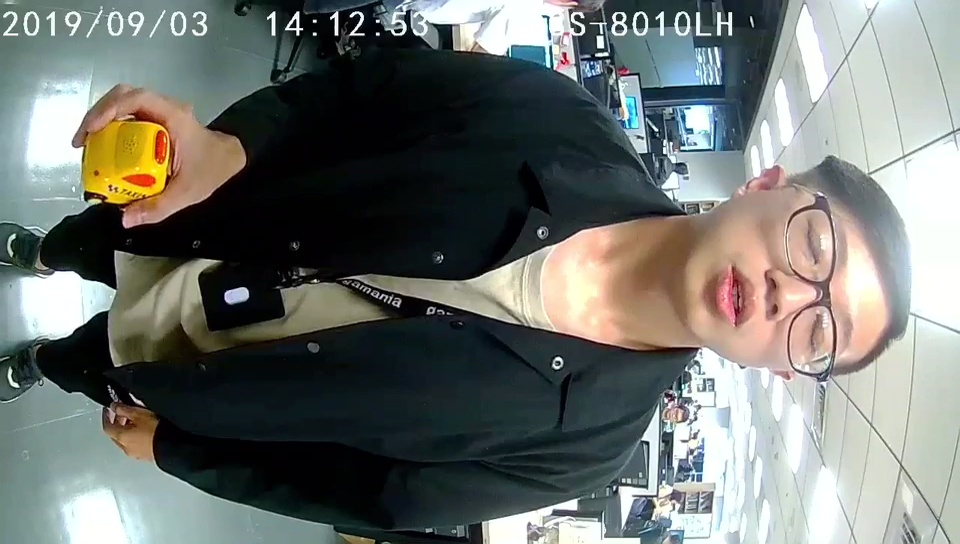car: (82, 117, 170, 205)
